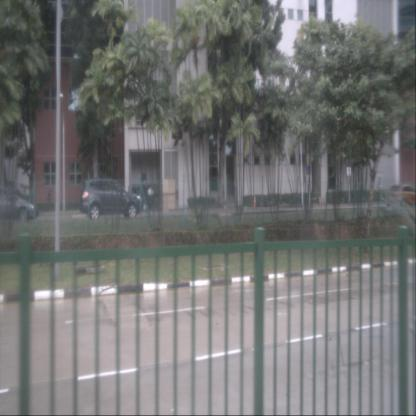cone: (253, 196, 257, 208), (319, 196, 321, 206)
